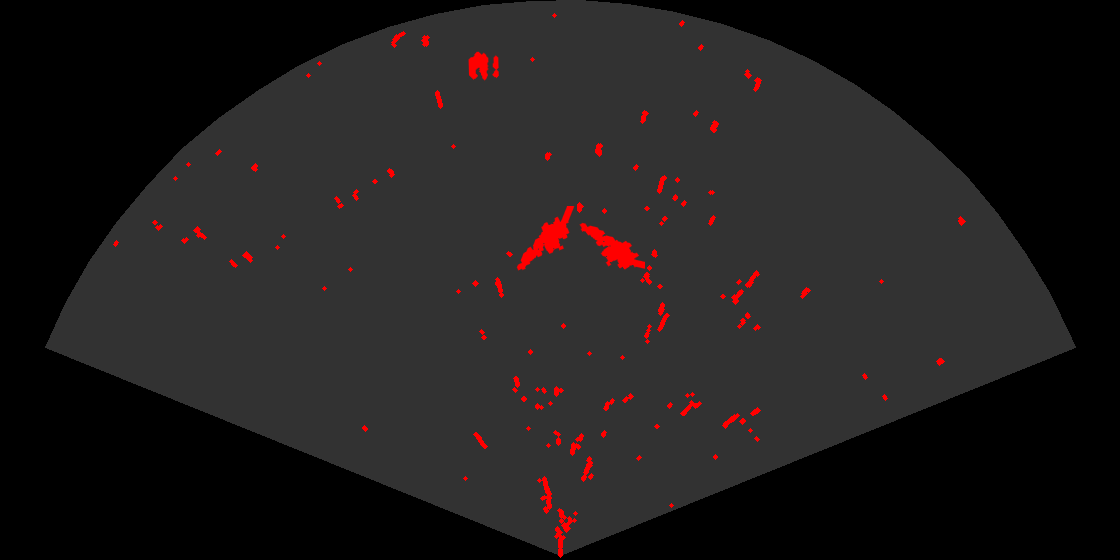ball: (467, 50, 500, 82)
frogman: (515, 206, 576, 272), (578, 221, 645, 271)
